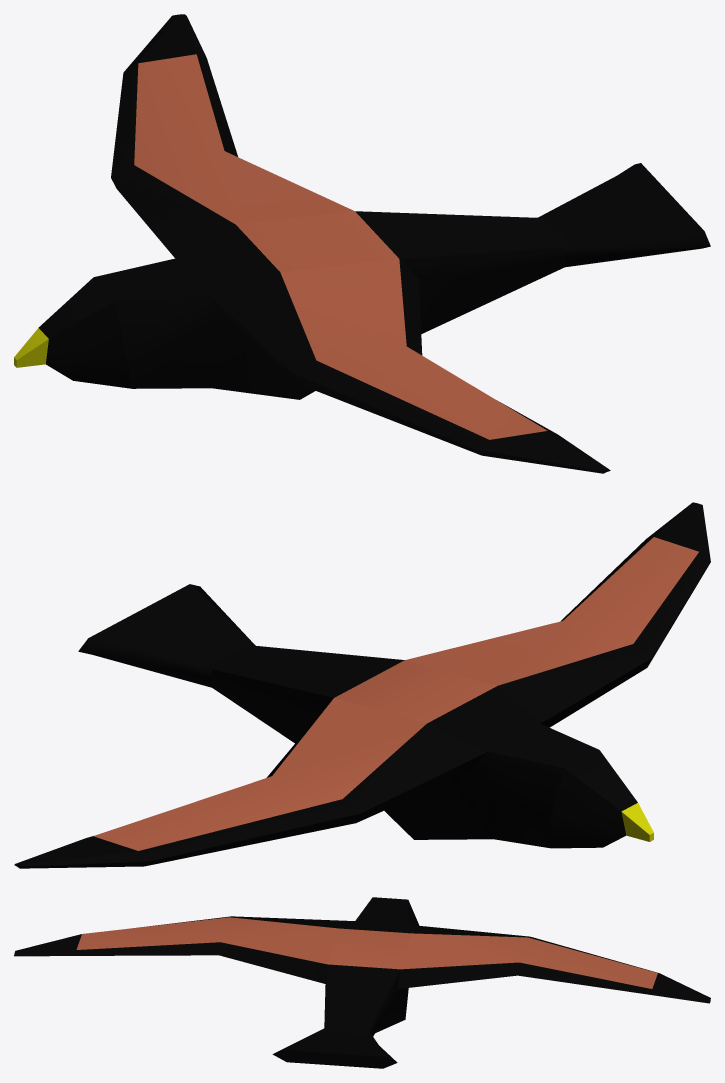
The model's file is bird_test.dae.
3 renders of one model, top to bottom at view 1: azimuth 30°, elevation 25°; view 2: azimuth 150°, elevation 25°; view 3: azimuth 270°, elevation 25°, orthographic. The views are drawn at different scales.
Visible parts, largest first — view 1: pasted__pCube10; view 2: pasted__pCube10; view 3: pasted__pCube10.
Boxes of the visible parts, x1,y1,x2,y2 form: pasted__pCube10: (14, 14, 710, 473); pasted__pCube10: (14, 502, 710, 868); pasted__pCube10: (14, 897, 710, 1068).
Size of the model in its own units: 9.81 by 2.03 by 15.86.
